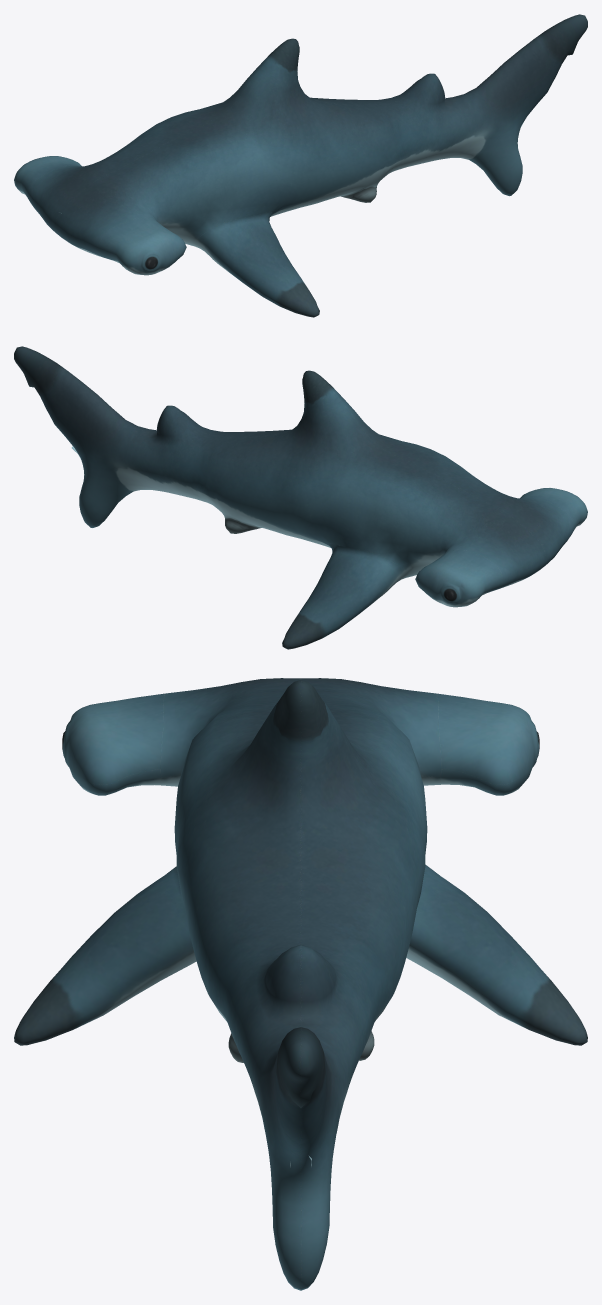
The model's file is tiburon.obj.
The picture shows the model from 3 angles, top to bottom: view 1: azimuth 30°, elevation 25°; view 2: azimuth 150°, elevation 25°; view 3: azimuth 270°, elevation 25°; orthographic projection. The views are drawn at different scales.
Parts seen in each view (by area): view 1: _Hammerhead_Shark_v1:_Hammerhead_Shark_v1; view 2: _Hammerhead_Shark_v1:_Hammerhead_Shark_v1; view 3: _Hammerhead_Shark_v1:_Hammerhead_Shark_v1.
Part boxes in pixels (bbox=[...]): _Hammerhead_Shark_v1:_Hammerhead_Shark_v1: bbox=[14, 14, 587, 317]; _Hammerhead_Shark_v1:_Hammerhead_Shark_v1: bbox=[14, 346, 587, 649]; _Hammerhead_Shark_v1:_Hammerhead_Shark_v1: bbox=[14, 678, 587, 1290].
Bounding box in the file's own units: 34.09 × 13.03 × 16.56.
Materials: 1 (1 with a texture image).
